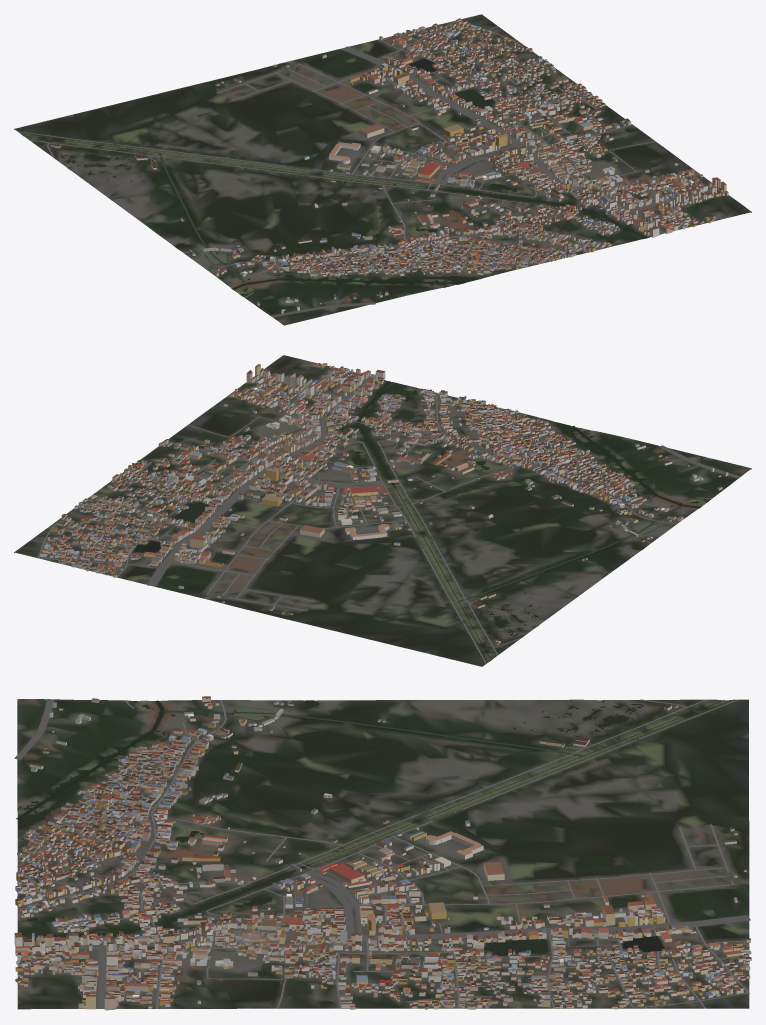
3 views of the same model, one above another, from view 1: azimuth 30°, elevation 25°; view 2: azimuth 150°, elevation 25°; view 3: azimuth 270°, elevation 25° (orthographic). The views are drawn at different scales.
Parts seen in each view (by area): view 1: ground, buildings, roads, water; view 2: ground, buildings, roads, water; view 3: ground, buildings, roads, water.
Boxes of the visible parts, <box> form: ground: <box>14,14,751,325</box>; buildings: <box>50,18,728,313</box>; roads: <box>18,21,718,317</box>; water: <box>23,58,646,295</box>; ground: <box>14,355,751,666</box>; buildings: <box>40,363,728,644</box>; roads: <box>30,371,740,663</box>; water: <box>133,381,708,660</box>; ground: <box>17,699,749,1009</box>; buildings: <box>14,696,751,1010</box>; roads: <box>14,699,750,1008</box>; water: <box>16,700,739,956</box>.
Bounding box in the file's own units: 1409 × 33.57 × 1414.
